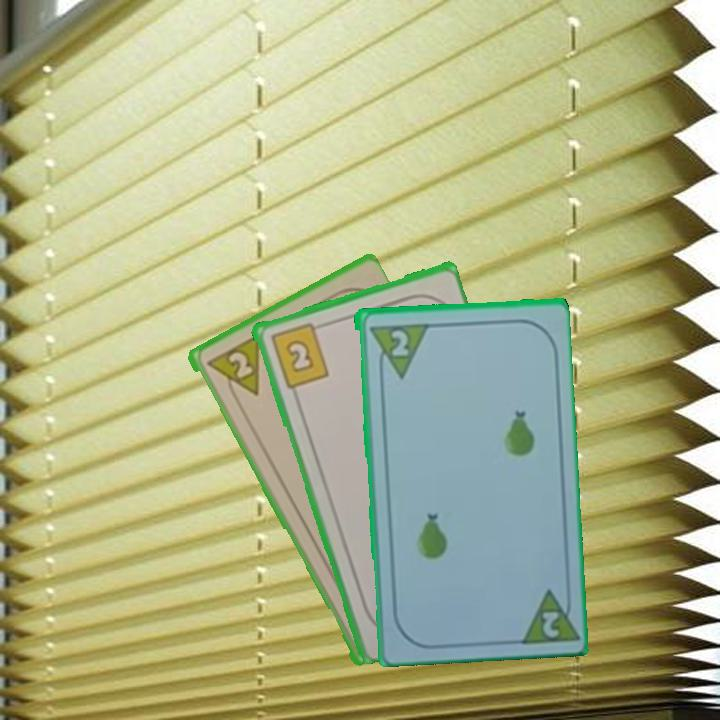2b: (266, 318, 331, 391)
2p: (513, 581, 578, 645), (365, 319, 428, 381), (223, 347, 255, 381)
